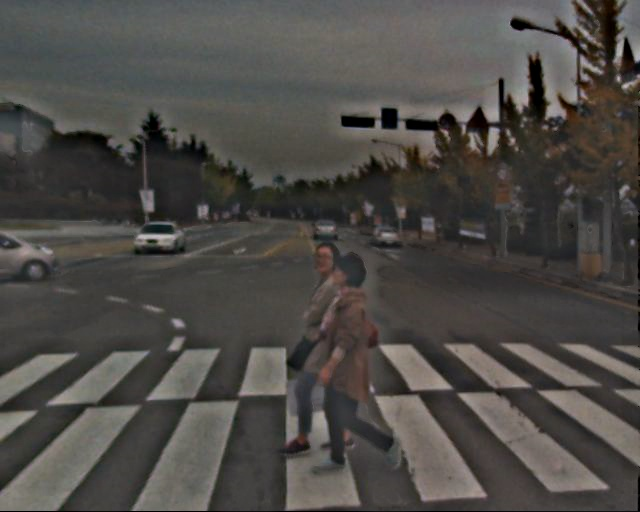person: (302, 256, 398, 476), (289, 238, 367, 452)
